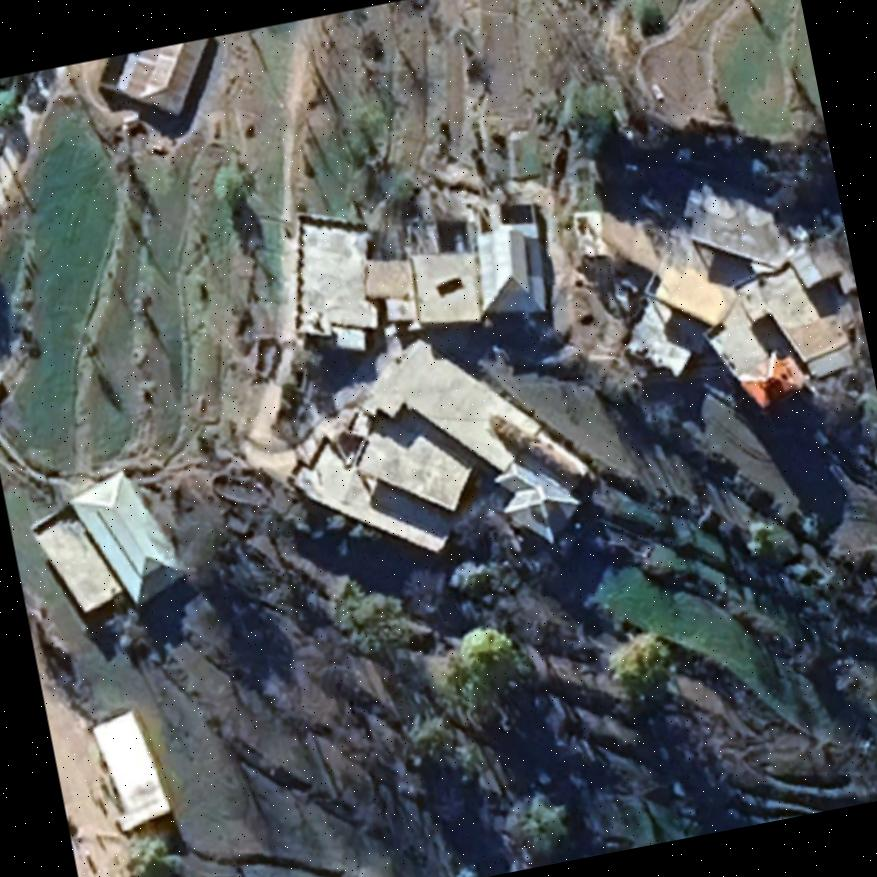Solarpanel: (431, 274, 465, 299)
